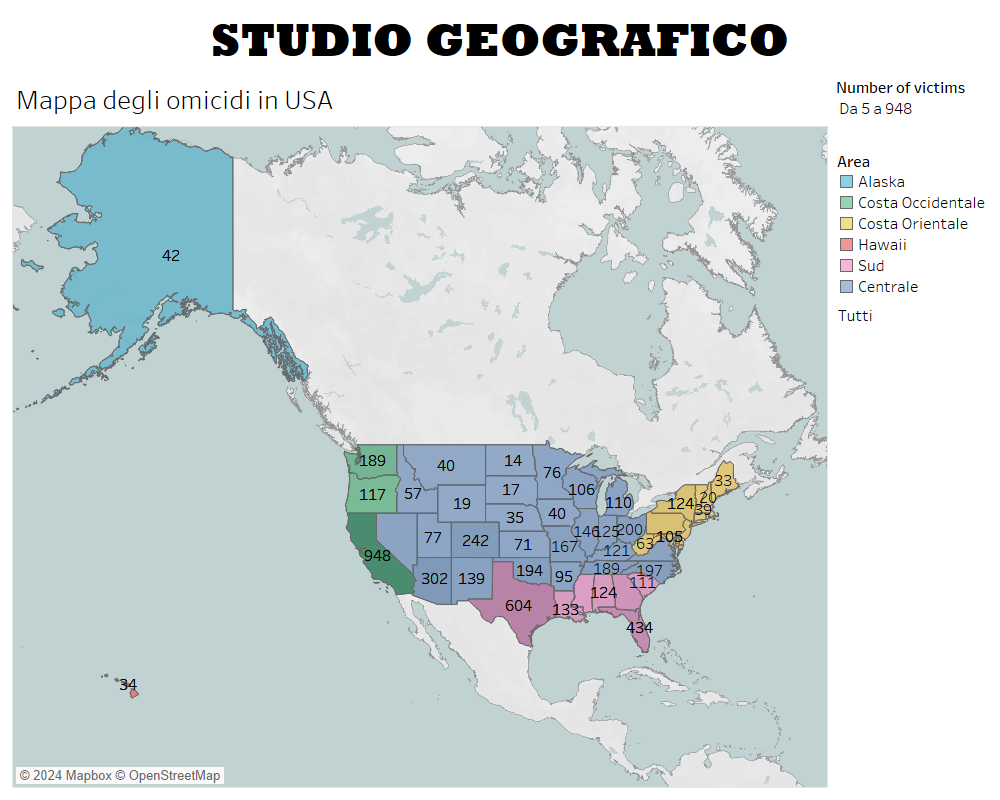

Layout of this report page (visuals, bound fields, positions):
{"tool":"tableau","page":{"name":"Dashboard 3","canvas":[1000,800],"ordinal":2},"visuals":[{"type":"title","box":[8,8,984,64]},{"type":"worksheet","title":"Foglio 11","mark":"Multipolygon","box":[8,72,824,720]},{"type":"filter","title":"Foglio 11","param":"[federated.1p3l17z1kl7a3q19aif3b07l2cyk].[__tableau_internal_object_id__].[cnt:c","box":[832,72,160,73]},{"type":"legend","title":"Foglio 11","param":"[federated.1p3l17z1kl7a3q19aif3b07l2cyk].[State (gruppo)]","box":[832,145,160,156]},{"type":"filter","title":"Foglio 11","param":"[federated.1p3l17z1kl7a3q19aif3b07l2cyk].[State (gruppo)]","box":[832,301,160,39]}]}

Visuals, with their boxes in screenshot pixels (x1, y1, x2, y2), scaled from the page's 1000x800 canvas onto the 1000x800 screenshot:
title: box=[8, 8, 992, 72]
"Foglio 11" worksheet (Multipolygon marks): box=[8, 72, 832, 792]
"Foglio 11" filter: box=[832, 72, 992, 145]
"Foglio 11" legend: box=[832, 145, 992, 301]
"Foglio 11" filter: box=[832, 301, 992, 340]
